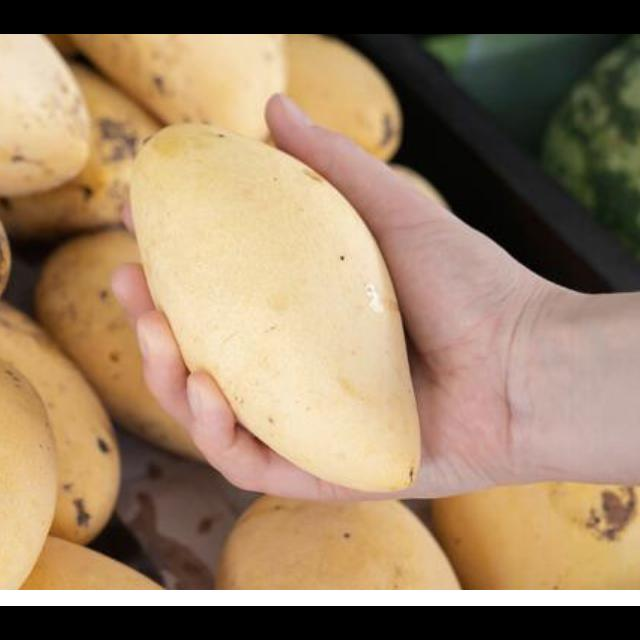mango: (128, 122, 421, 490)
